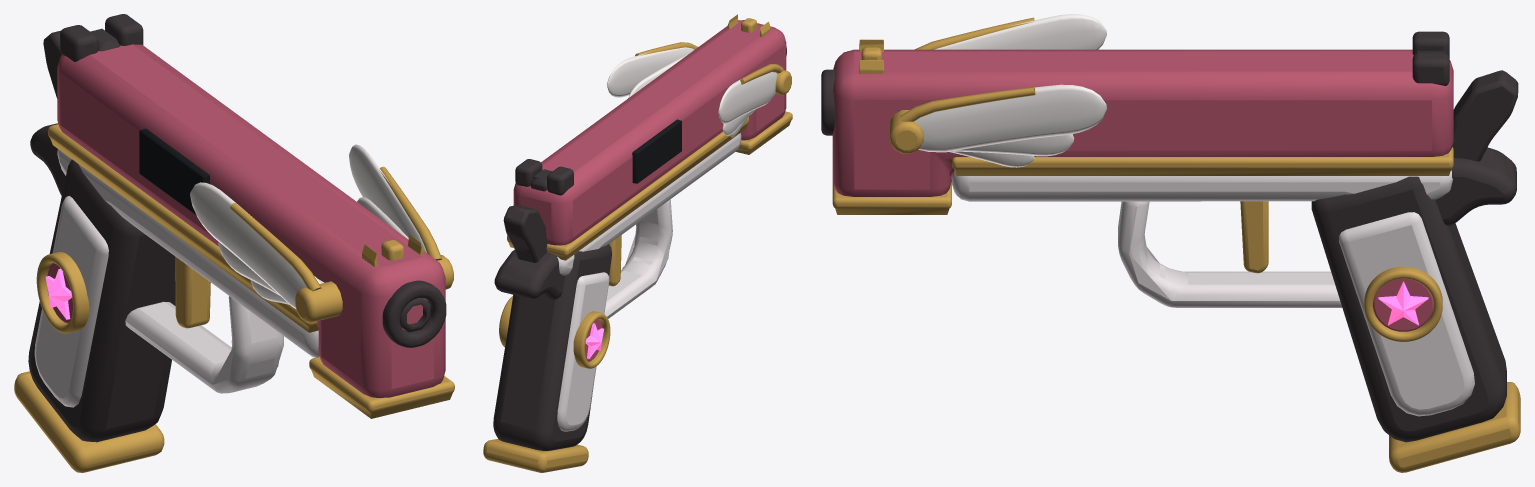
File: w_pistol@pistol_cute_b.glb
3 renders of one model, left to right at view 1: azimuth 30°, elevation 25°; view 2: azimuth 150°, elevation 25°; view 3: azimuth 270°, elevation 25°, orthographic. The views are drawn at different scales.
Parts seen in each view (by area): view 1: slide_wzA__rose__pb9566f, grip_wzB__dark__p3b3437, body_wzA__pearl__pe7e0e3, slide_wzN__gold__pc99f4c, slide_wzN__ribbon__pf4f0ee, grip_wzA__pearl__pe7e0e3, slide_wzN__dark__p3b3437, mag_wzN__gold__pc99f4c, slide_wzN__black__p16171b, grip_wzN__gold__pc99f4c, body_wzN__gold__pc99f4c, grip_wzN__glow__nff4f8e (+2 smaller); view 2: slide_wzA__rose__pb9566f, grip_wzB__dark__p3b3437, body_wzA__pearl__pe7e0e3, slide_wzN__gold__pc99f4c, slide_wzN__ribbon__pf4f0ee, grip_wzA__pearl__pe7e0e3, mag_wzN__gold__pc99f4c, hammer_wzN__dark__p3b3437, slide_wzN__black__p16171b, grip_wzN__gold__pc99f4c, slide_wzN__dark__p3b3437, body_wzN__gold__pc99f4c (+1 smaller); view 3: slide_wzA__rose__pb9566f, body_wzA__pearl__pe7e0e3, grip_wzB__dark__p3b3437, slide_wzN__gold__pc99f4c, slide_wzN__ribbon__pf4f0ee, grip_wzA__pearl__pe7e0e3, mag_wzN__gold__pc99f4c, hammer_wzN__dark__p3b3437, slide_wzN__dark__p3b3437, grip_wzN__gold__pc99f4c, body_wzN__gold__pc99f4c, grip_wzN__rose__pb9566f (+1 smaller).
Boxes of the visible parts, bbox=[...] form: slide_wzA__rose__pb9566f: bbox=[57, 44, 445, 398]; grip_wzB__dark__p3b3437: bbox=[28, 123, 175, 442]; body_wzA__pearl__pe7e0e3: bbox=[57, 149, 319, 393]; slide_wzN__gold__pc99f4c: bbox=[48, 124, 454, 418]; slide_wzN__ribbon__pf4f0ee: bbox=[190, 144, 426, 308]; grip_wzA__pearl__pe7e0e3: bbox=[34, 196, 108, 407]; slide_wzN__dark__p3b3437: bbox=[60, 14, 446, 347]; mag_wzN__gold__pc99f4c: bbox=[14, 371, 164, 472]; slide_wzN__black__p16171b: bbox=[139, 128, 209, 215]; grip_wzN__gold__pc99f4c: bbox=[36, 252, 89, 333]; body_wzN__gold__pc99f4c: bbox=[175, 256, 210, 328]; grip_wzN__glow__nff4f8e: bbox=[45, 268, 71, 319]; slide_wzA__rose__pb9566f: bbox=[513, 20, 786, 245]; grip_wzB__dark__p3b3437: bbox=[493, 244, 611, 450]; body_wzA__pearl__pe7e0e3: bbox=[557, 133, 741, 318]; slide_wzN__gold__pc99f4c: bbox=[507, 14, 792, 260]; slide_wzN__ribbon__pf4f0ee: bbox=[606, 47, 777, 137]; grip_wzA__pearl__pe7e0e3: bbox=[508, 272, 609, 431]; mag_wzN__gold__pc99f4c: bbox=[483, 439, 588, 472]; hammer_wzN__dark__p3b3437: bbox=[503, 205, 547, 262]; slide_wzN__black__p16171b: bbox=[632, 119, 681, 183]; grip_wzN__gold__pc99f4c: bbox=[499, 296, 610, 368]; slide_wzN__dark__p3b3437: bbox=[515, 46, 786, 195]; body_wzN__gold__pc99f4c: bbox=[608, 235, 621, 286]; slide_wzA__rose__pb9566f: bbox=[832, 49, 1453, 196]; body_wzA__pearl__pe7e0e3: bbox=[952, 170, 1452, 307]; grip_wzB__dark__p3b3437: bbox=[1311, 147, 1516, 442]; slide_wzN__gold__pc99f4c: bbox=[832, 17, 1453, 214]; slide_wzN__ribbon__pf4f0ee: bbox=[914, 14, 1106, 167]; grip_wzA__pearl__pe7e0e3: bbox=[1339, 212, 1474, 416]; mag_wzN__gold__pc99f4c: bbox=[1389, 382, 1520, 472]; hammer_wzN__dark__p3b3437: bbox=[1452, 70, 1518, 161]; slide_wzN__dark__p3b3437: bbox=[821, 31, 1449, 135]; grip_wzN__gold__pc99f4c: bbox=[1364, 266, 1442, 341]; body_wzN__gold__pc99f4c: bbox=[1240, 201, 1268, 273]; grip_wzN__rose__pb9566f: bbox=[1373, 278, 1433, 331].
Bounding box in the file's own units: 0.0873 × 0.2198 × 0.34.
